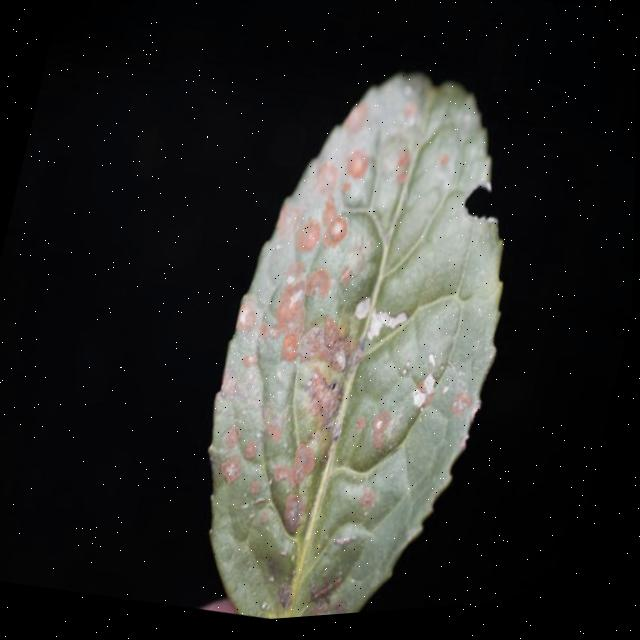Tea red rust: (183, 81, 514, 629)
